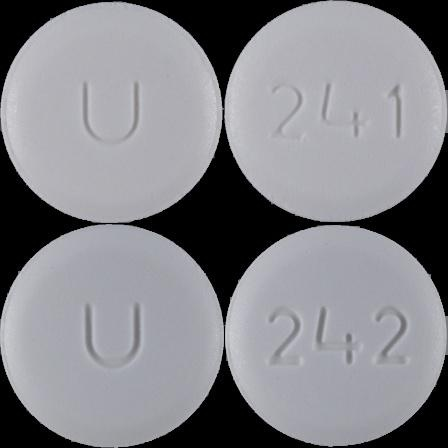29300-241: (0, 0, 224, 224)
